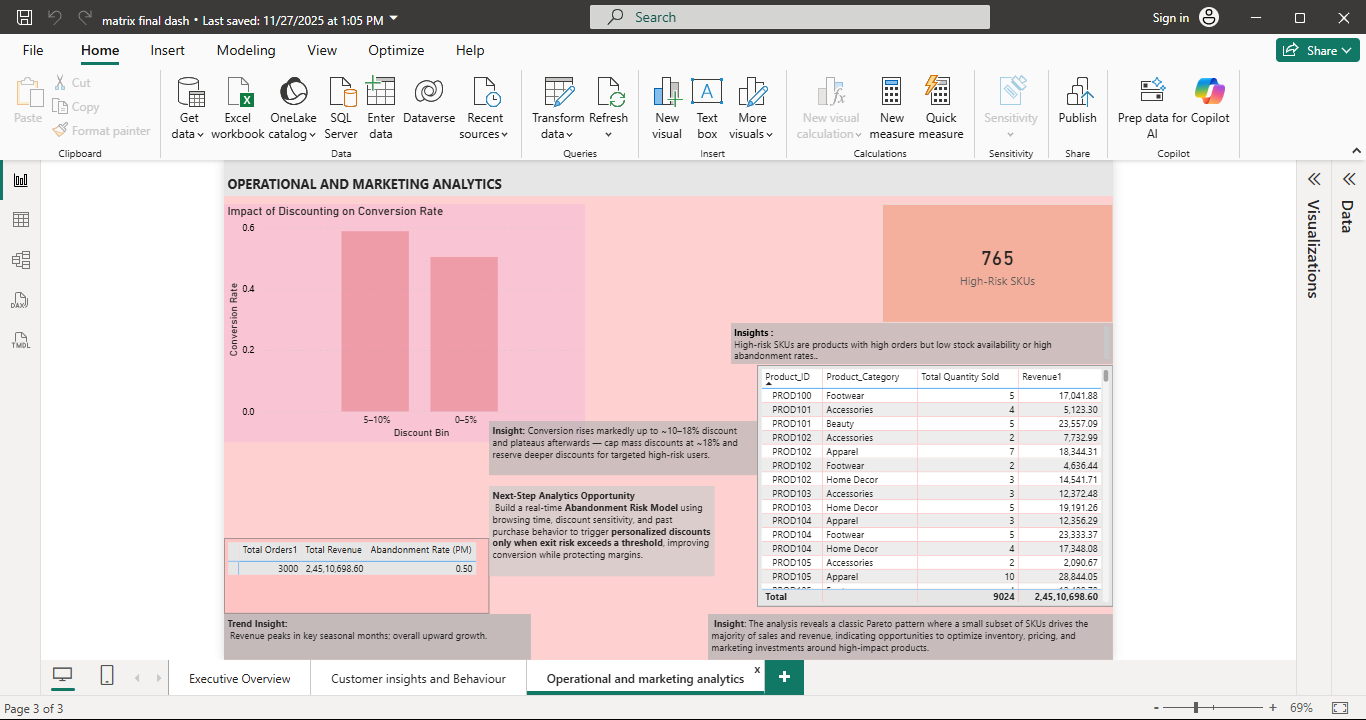

This screenshot's page, from the dashboard's own definition file:
{"tool":"powerbi","page":{"name":"Operational and marketing analytics","canvas":[1280,720],"ordinal":2},"visuals":[{"type":"columnChart","title":"Impact of Discounting on Conversion Rate","fields":{"Y":["Data.Conversion Rate"],"Category":["Data.Discount Bin"]},"box":[0,63.4,519.8,342.7],"z":0},{"type":"pivotTable","fields":{"Values":["Data.Total Orders","Data.Total Revenue","Data.Abandonment Rate (PM)"]},"box":[0,544.3,381.6,109.4],"z":1000},{"type":"tableEx","fields":{"Values":["Data.Product_ID","Data.Product_Category","Data.Total Quantity Sold","Data.Revenue"]},"box":[767.5,295.2,512.6,348.5],"z":2000},{"type":"card","fields":{"Values":["Data.High-Risk SKUs"]},"box":[947.5,63.4,332.6,171.4],"z":3000},{"type":"textbox","box":[0,653.8,442.1,66.2],"z":4000},{"type":"textbox","box":[0,0,1280.2,51.8],"z":5000},{"type":"textbox","box":[697,653.8,583.2,66.2],"z":6000},{"type":"textbox","box":[729.9,235.2,550.1,59.5],"z":7000},{"type":"textbox","box":[381.6,375.8,385.9,77.8],"z":8000},{"type":"textbox","box":[381.6,469.4,325.4,129.6],"z":8001}]}

Visuals, with their boxes on the page's 1280x720 design canvas (x1, y1, x2, y2). These are canvas units, not pixel positions in the 1366x720 screenshot, which may show the page scaled, cropped or inside an application window:
"Impact of Discounting on Conversion Rate" columnChart: Rect(0, 63, 520, 406)
pivotTable - Data.Total Orders x Data.Total Revenue: Rect(0, 544, 382, 654)
tableEx - Data.Product_ID x Data.Product_Category: Rect(768, 295, 1280, 644)
card - Data.High-Risk SKUs: Rect(948, 63, 1280, 235)
textbox: Rect(0, 654, 442, 720)
textbox: Rect(0, 0, 1280, 52)
textbox: Rect(697, 654, 1280, 720)
textbox: Rect(730, 235, 1280, 295)
textbox: Rect(382, 376, 768, 454)
textbox: Rect(382, 469, 707, 599)
